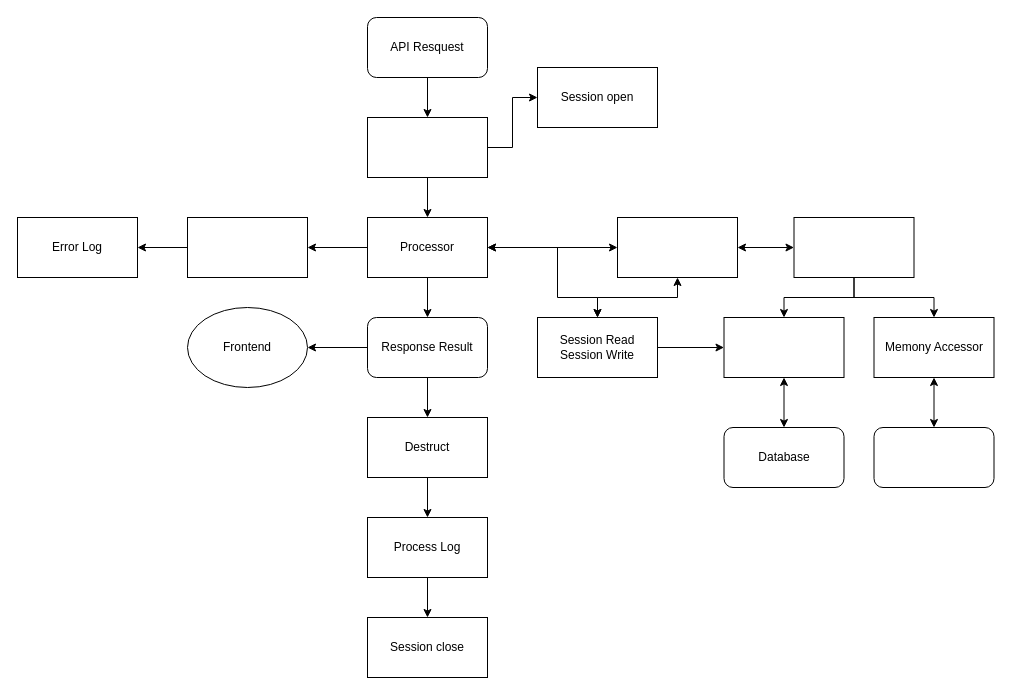
The diagram is 1012 pixels wide and 695 high, and some of its shapes have lost their labels. The box of each missing label's shape, as (x1, y1, x2, y2) in pixels:
Data Pool: (793, 216, 914, 278)
DB Accessor (PDO): (723, 316, 844, 378)
Exception: (186, 216, 308, 278)
Handler: (616, 216, 738, 278)
index: (366, 116, 488, 178)
Memcached: (873, 426, 994, 488)
